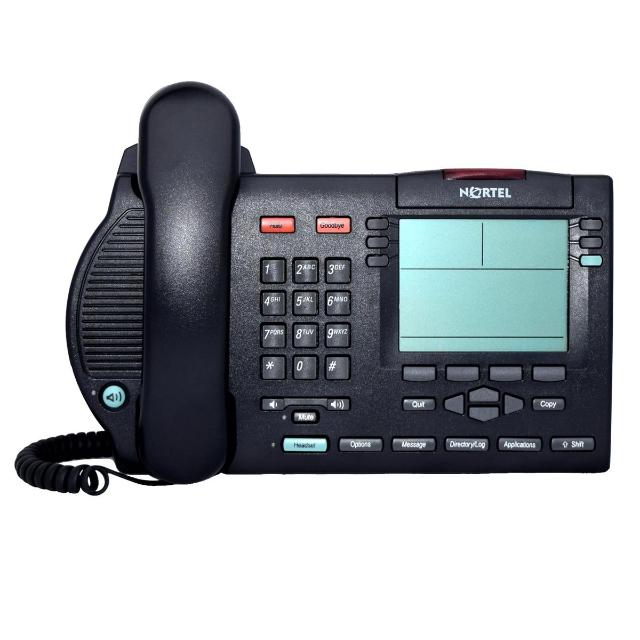Telephone-Set: (96, 72, 622, 496)
